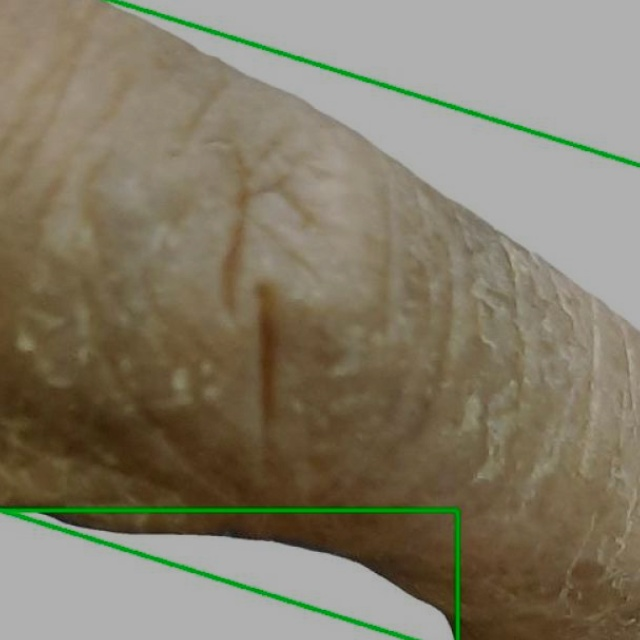Eczema: (0, 0, 639, 639), (0, 510, 457, 639)
